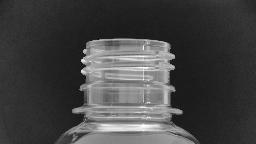No Cap: (66, 33, 186, 119)
